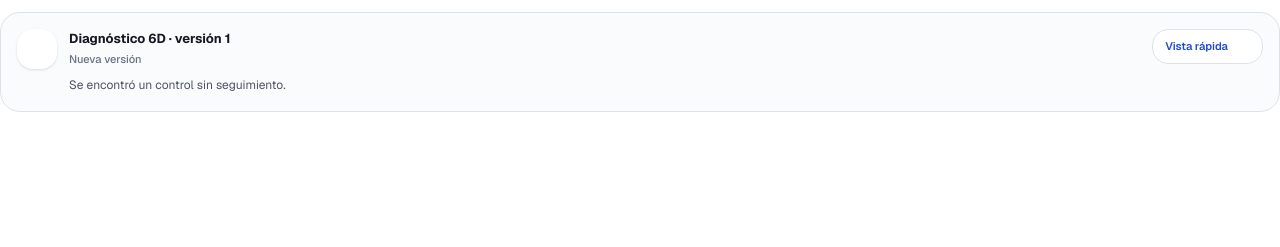
vista rápida de entregables en la conversación › muestra la versión histórica exacta cuando llega la vista estructurada
Click the button "Vista rápida".
click(1208, 46)  # box left=1152, top=29, right=1263, bottom=64
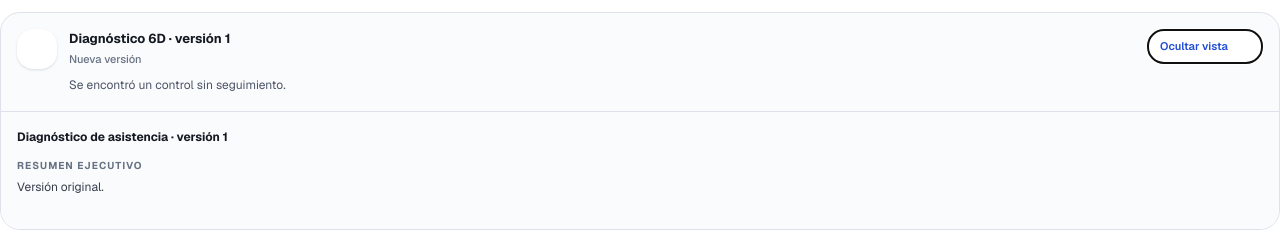
Expected: the text "Versión original." is shown, left=17, top=179, right=104, bottom=195
